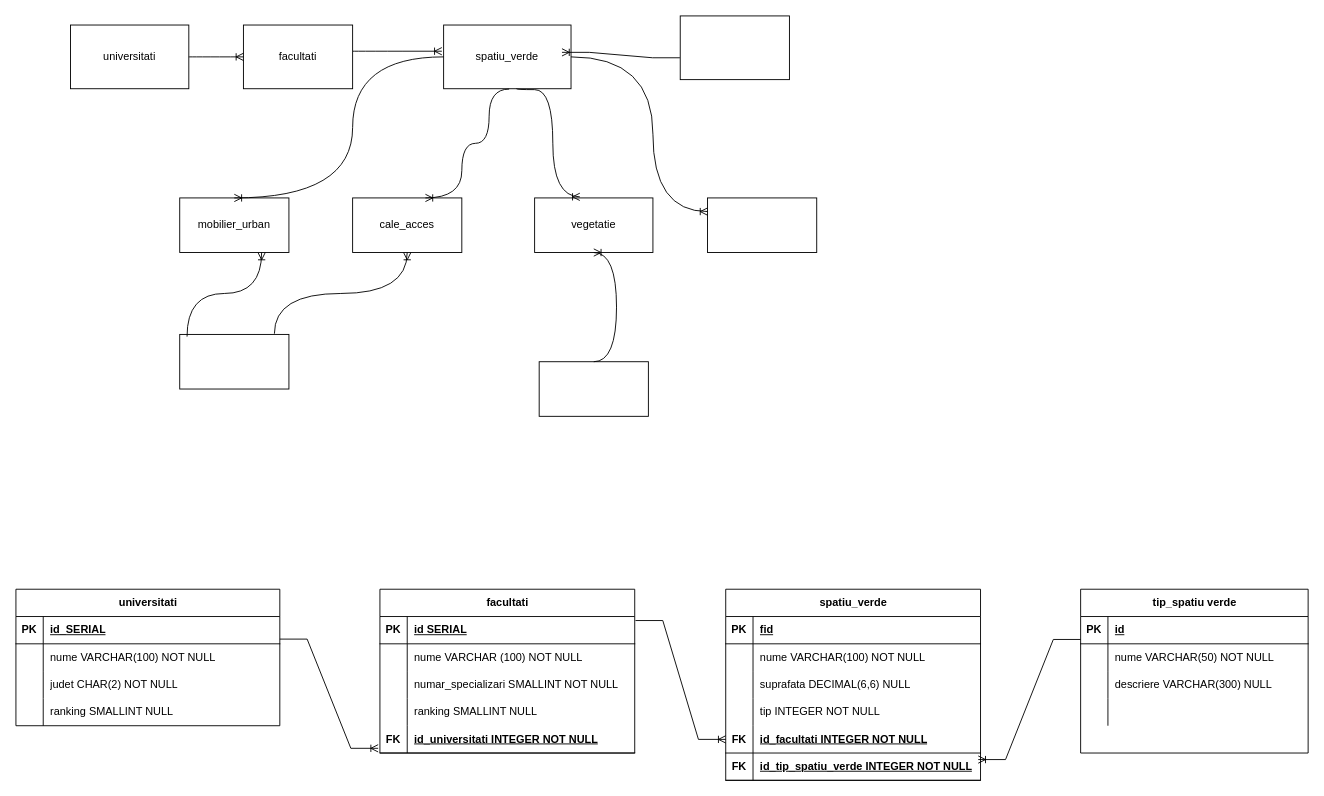
This 1324x796 diagram has some shape labels left out. The shapes that lost their labels are listed below. From the top down, each one's centre as x and y in pixels, then its label:
pixel 734 47: tip_spatiu_verde
pixel 762 225: iluminat
pixel 234 361: stare_utilizare
pixel 593 388: tip_vegetatie
